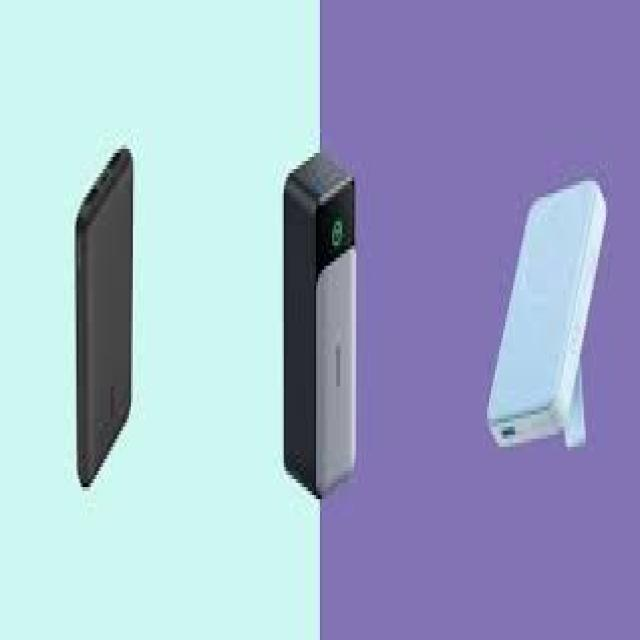portable-charger: (483, 175, 619, 474), (273, 139, 364, 510), (72, 147, 146, 510)
